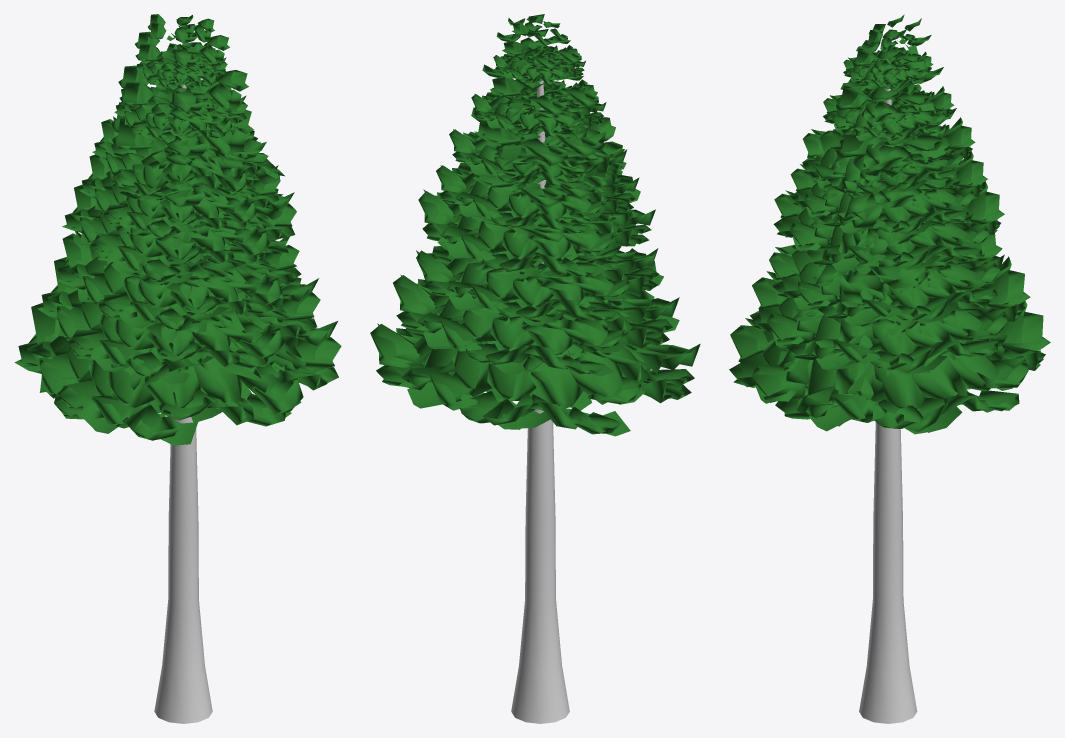
The model's file is redwoodTree.fbx.
3 renders of one model, left to right at view 1: azimuth 30°, elevation 25°; view 2: azimuth 150°, elevation 25°; view 3: azimuth 270°, elevation 25°, orthographic.
Visible parts, largest first — view 1: canopy.001, canopy, canopy.002, redWood trunk, canopy.003, canopy.005, canopy.004, canopy.006, canopy.007; view 2: canopy.001, canopy, redWood trunk, canopy.002, canopy.003, canopy.004, canopy.005, canopy.006, canopy.007; view 3: canopy.001, canopy, redWood trunk, canopy.002, canopy.003, canopy.005, canopy.004, canopy.006, canopy.007.
Boxes of the visible parts, box(x1,y1,x2,y2) form: canopy.001: box(38, 14, 320, 383); canopy: box(14, 302, 341, 445); canopy.002: box(57, 231, 301, 333); redWood trunk: box(154, 84, 212, 723); canopy.003: box(62, 184, 296, 283); canopy.005: box(92, 116, 268, 200); canopy.004: box(79, 154, 280, 241); canopy.006: box(114, 76, 247, 146); canopy.007: box(136, 43, 227, 92); canopy.001: box(393, 14, 679, 376); canopy: box(370, 291, 700, 436); redWood trunk: box(511, 80, 569, 723); canopy.002: box(416, 241, 659, 325); canopy.003: box(418, 170, 655, 278); canopy.004: box(436, 162, 639, 234); canopy.005: box(449, 112, 627, 189); canopy.006: box(471, 79, 606, 139); canopy.007: box(493, 45, 585, 86); canopy.001: box(750, 14, 1030, 374); canopy: box(729, 300, 1050, 434); redWood trunk: box(859, 87, 917, 723); canopy.002: box(769, 233, 1004, 326); canopy.003: box(773, 181, 1004, 272); canopy.005: box(802, 117, 975, 197); canopy.004: box(790, 152, 987, 235); canopy.006: box(823, 83, 954, 142); canopy.007: box(843, 46, 933, 90).
Bounding box in the file's own units: 13896 × 32852 × 13971.
